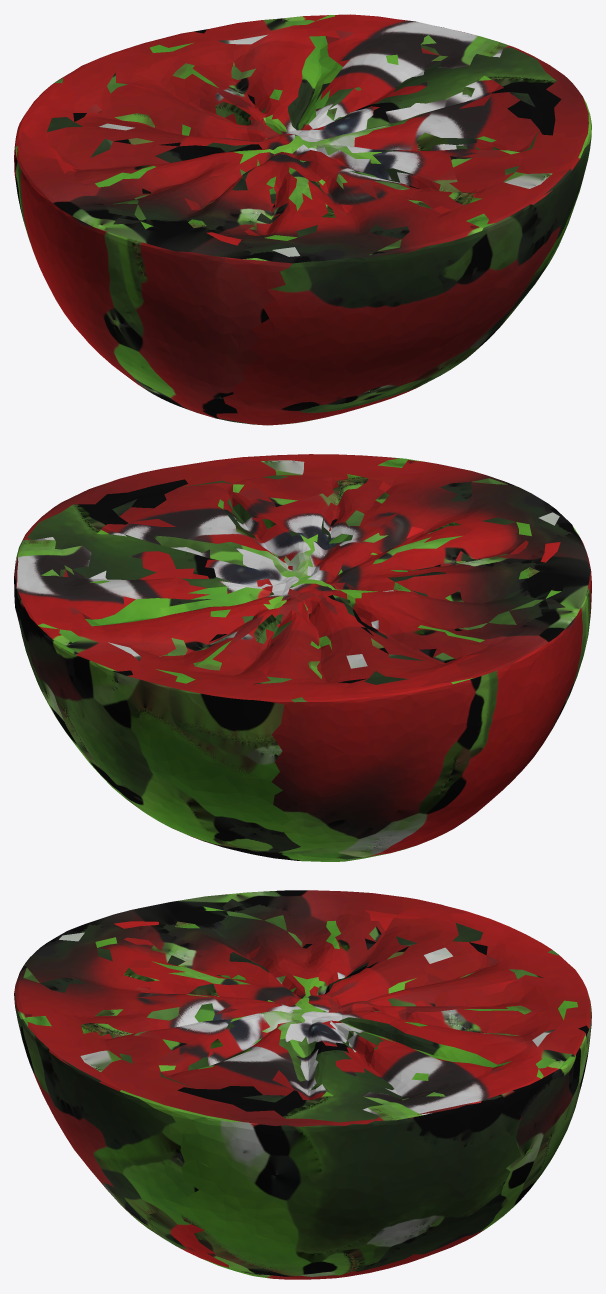
File: sample.obj
3 renders of one model, top to bottom at view 1: azimuth 30°, elevation 25°; view 2: azimuth 150°, elevation 25°; view 3: azimuth 270°, elevation 25°, orthographic.
Size of the model in its own units: 0.1832 by 0.09 by 0.1817.
